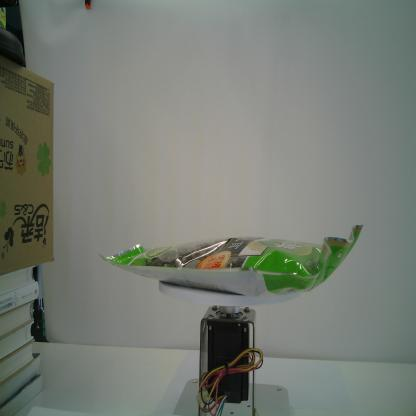Dried Food: (99, 220, 363, 302)
